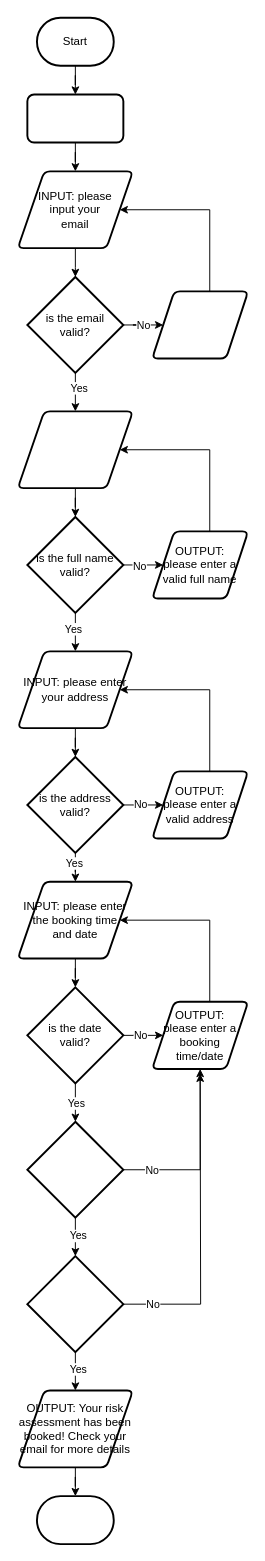
The diagram is 265 pixels wide and 1561 high, and some of its shapes have lost their labels. The centre of each missing label's shape, as x and y in pixels:
End: point (75, 1520)
INPUT: please enter your full name: point (74, 449)
is the booking date in the future?: point (75, 1304)
is the time valid?: point (75, 1169)
Open database: point (75, 118)
OUTPUT: please enter a valid email address: point (200, 324)
